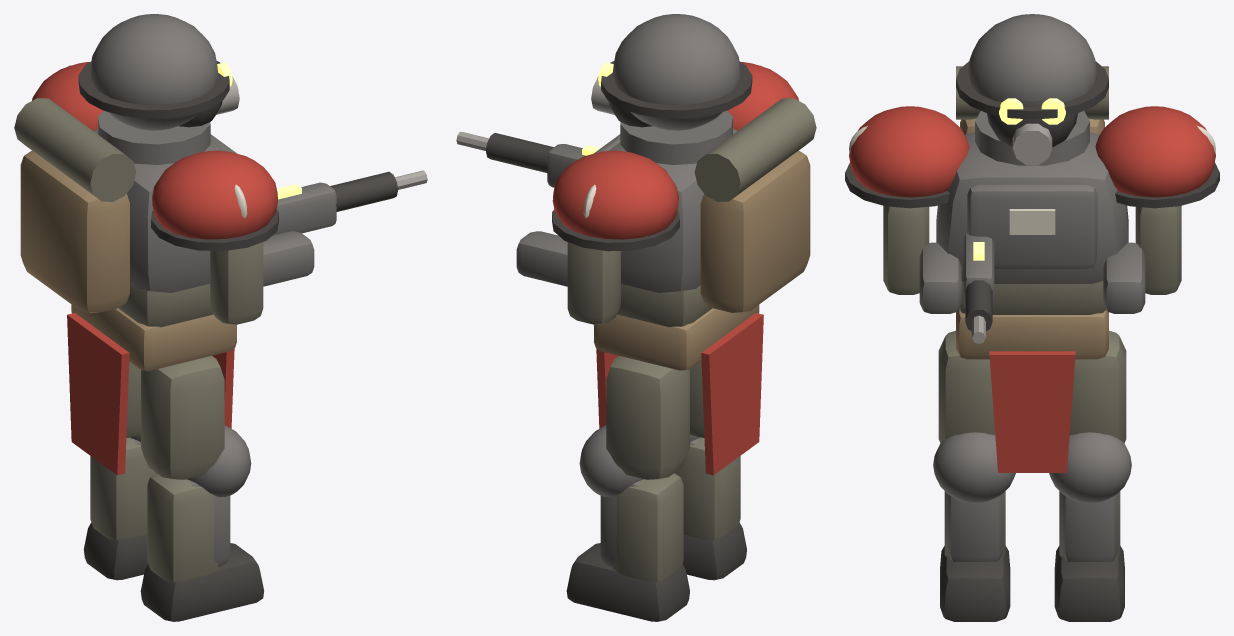
The model's file is hum_soldado.glb.
The picture shows the model from 3 angles, left to right: view 1: azimuth 30°, elevation 25°; view 2: azimuth 150°, elevation 25°; view 3: azimuth 270°, elevation 25°; orthographic projection.
Visible parts, largest first — view 1: torso_m, knee_r_m, leg_r_m, knee_l_m, leg_l_m; view 2: torso_m, knee_l_m, leg_l_m, knee_r_m, leg_r_m; view 3: torso_m, knee_l_m, knee_r_m, leg_l_m, leg_r_m.
Part boxes in pixels (<box>): torso_m: <box>14,14,427,475</box>; knee_r_m: <box>140,425,263,621</box>; leg_r_m: <box>141,355,224,479</box>; knee_l_m: <box>83,435,155,580</box>; leg_l_m: <box>126,361,141,437</box>; torso_m: <box>456,14,816,475</box>; knee_l_m: <box>566,425,689,621</box>; leg_l_m: <box>606,356,689,479</box>; knee_r_m: <box>674,435,746,580</box>; leg_r_m: <box>689,361,704,437</box>; torso_m: <box>845,14,1219,472</box>; knee_l_m: <box>1049,432,1131,621</box>; knee_r_m: <box>933,432,1015,621</box>; leg_l_m: <box>1069,330,1126,442</box>; leg_r_m: <box>938,330,995,442</box>.
Bounding box in the file's own units: 0.53 × 0.825 × 0.49.
